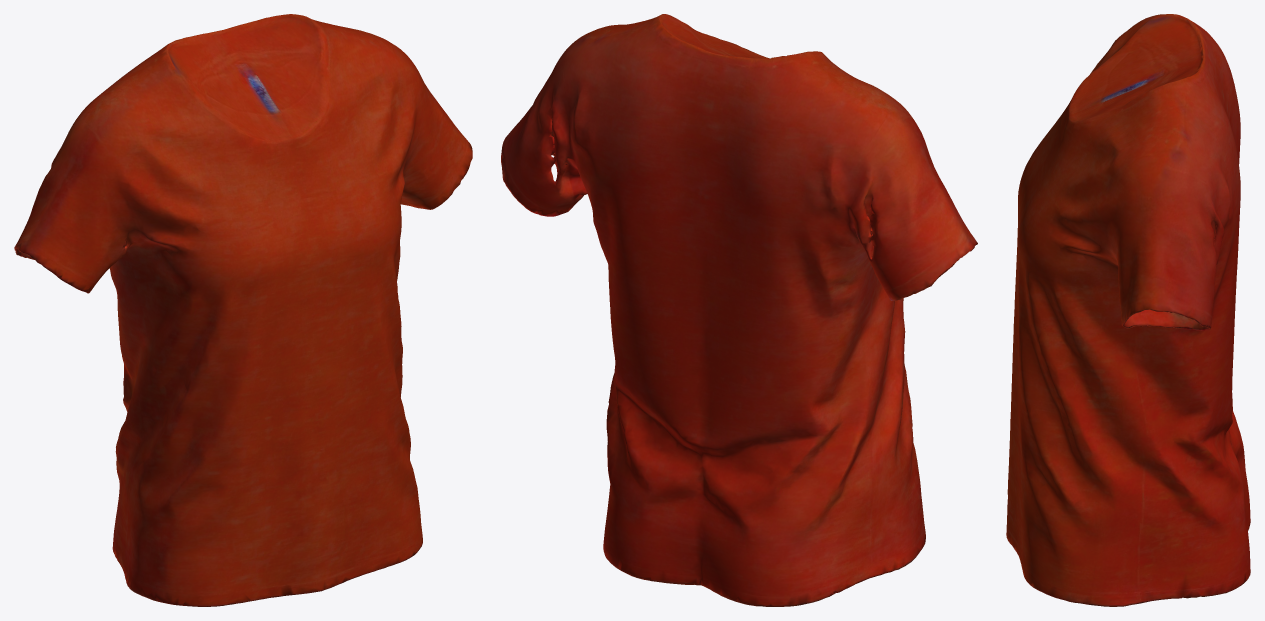
The picture shows the model from 3 angles, left to right: view 1: azimuth 30°, elevation 25°; view 2: azimuth 150°, elevation 25°; view 3: azimuth 270°, elevation 25°; orthographic projection. The views are drawn at different scales.
Parts seen in each view (by area): view 1: file1; view 2: file1; view 3: file1.
Boxes of the visible parts, <box> form: file1: <box>14,14,472,606</box>; file1: <box>501,14,977,606</box>; file1: <box>1006,14,1250,606</box>.
Size of the model in its own units: 1.84 by 2 by 0.8792.
1 material, 1 textured.
